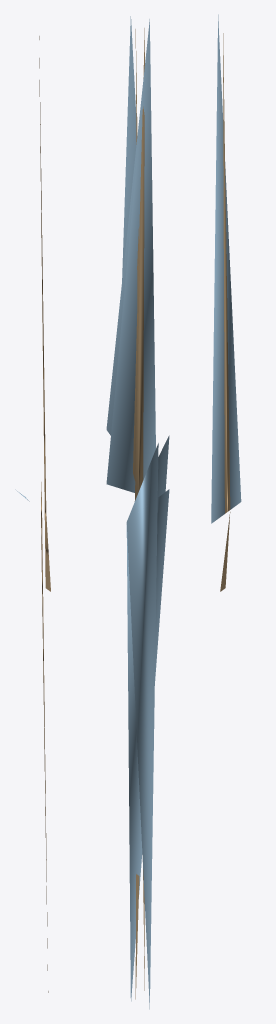
File: equip_weapon_mithril_axe.glb
The picture shows the model from 3 angles, left to right: view 1: azimuth 30°, elevation 25°; view 2: azimuth 150°, elevation 25°; view 3: azimuth 330°, elevation 25°; orthographic projection.
Parts seen in each view (by area): view 1: equip_weapon_mithril_axe; view 2: equip_weapon_mithril_axe; view 3: equip_weapon_mithril_axe.
Part boxes in pixels (x1,y1,x2,y2): equip_weapon_mithril_axe: (15, 36, 50, 992); equip_weapon_mithril_axe: (106, 16, 169, 1009); equip_weapon_mithril_axe: (211, 14, 241, 591).
Size of the model in its own units: 0.11 by 2 by 0.11.
